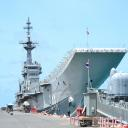Portanaves: (15, 13, 128, 122)
